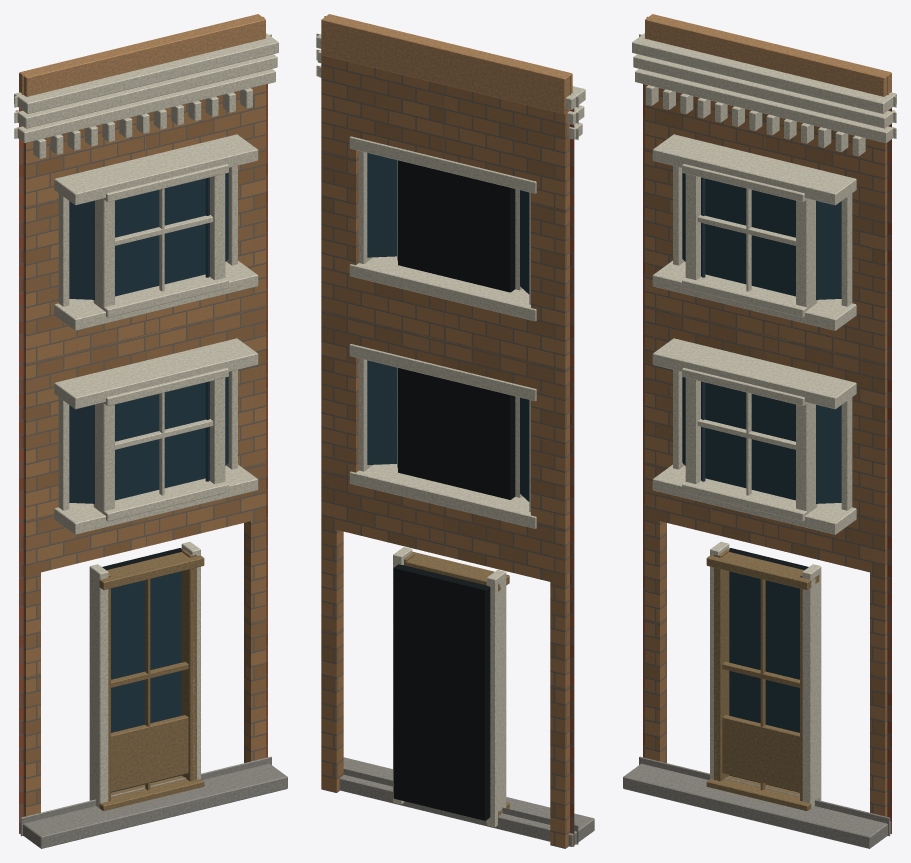
File: RUNDWN14_lod1.glb
3 views of the same model, side by side, from view 1: azimuth 30°, elevation 25°; view 2: azimuth 150°, elevation 25°; view 3: azimuth 330°, elevation 25° (orthographic).
Parts seen in each view (by area): view 1: RUNDWN14_FRONT_LOD1; view 2: RUNDWN14_FRONT_LOD1; view 3: RUNDWN14_FRONT_LOD1.
Part boxes in pixels (<box>): RUNDWN14_FRONT_LOD1: <box>14,14,287,848</box>; RUNDWN14_FRONT_LOD1: <box>316,14,594,848</box>; RUNDWN14_FRONT_LOD1: <box>623,14,896,848</box>.
Bounding box in the file's own units: 3.44 × 9.66 × 0.765.
Materials: 9 (7 with a texture image).
